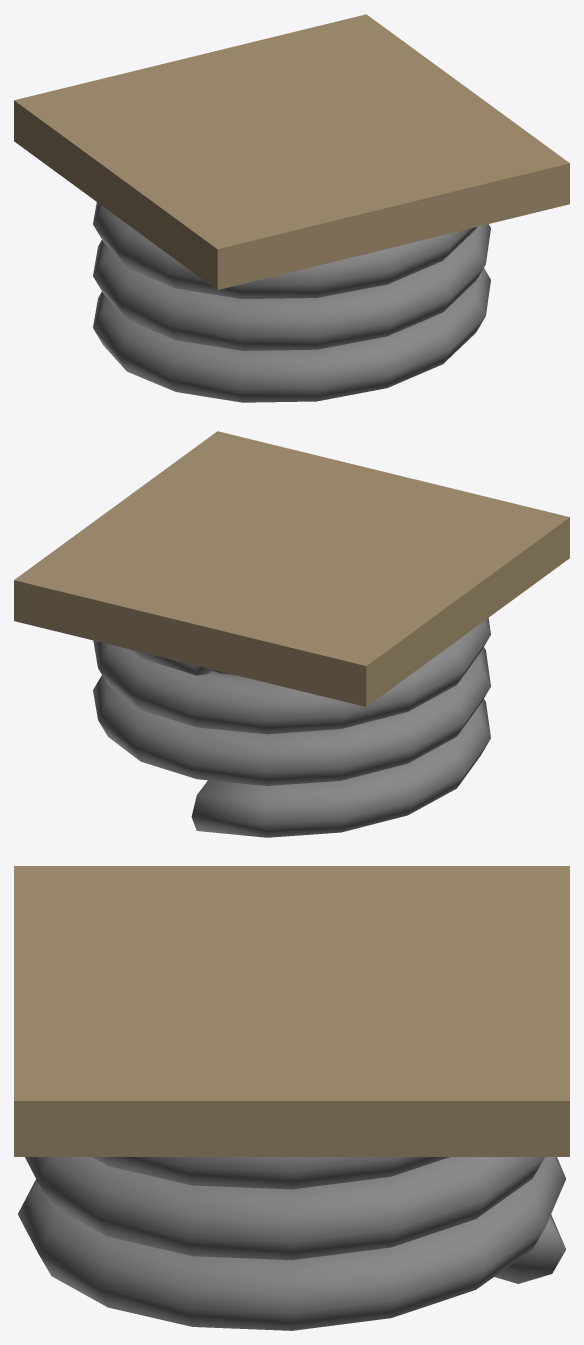
Rendered from sping.fbx.
3 renders of one model, top to bottom at view 1: azimuth 30°, elevation 25°; view 2: azimuth 150°, elevation 25°; view 3: azimuth 270°, elevation 25°, orthographic. The views are drawn at different scales.
Parts seen in each view (by area): view 1: Circle.001; view 2: Circle.001; view 3: Circle.001.
Part boxes in pixels (x1,y1,x2,y2): Circle.001: (14,14,569,402); Circle.001: (14,431,569,837); Circle.001: (14,866,569,1330).
Size of the model in its own units: 200 by 200 by 119.
